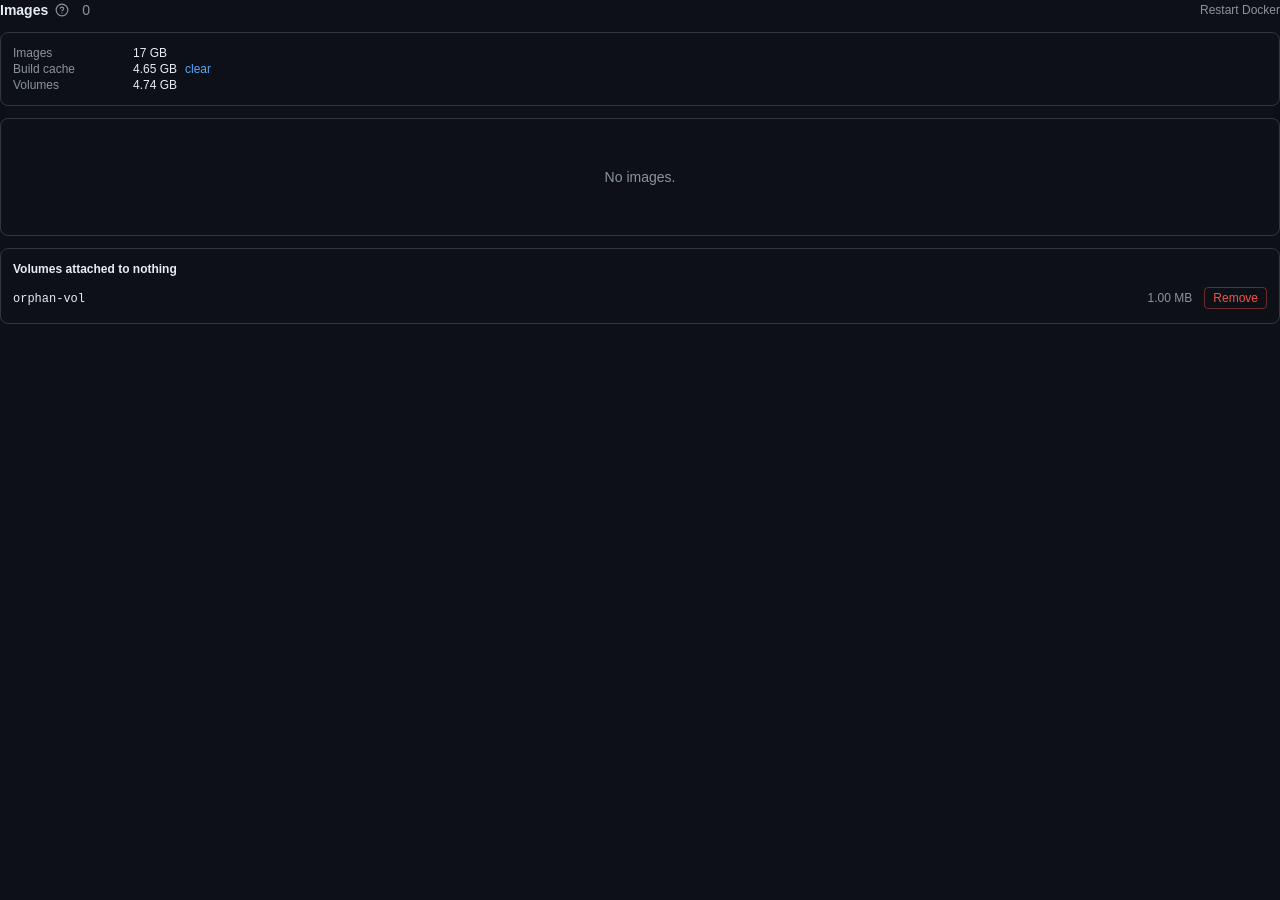
it: removing a dangling volume › removes nothing when the confirmation is cancelled
Click the button "Remove" at x=1236, y=298, box [1204,287,1267,309]
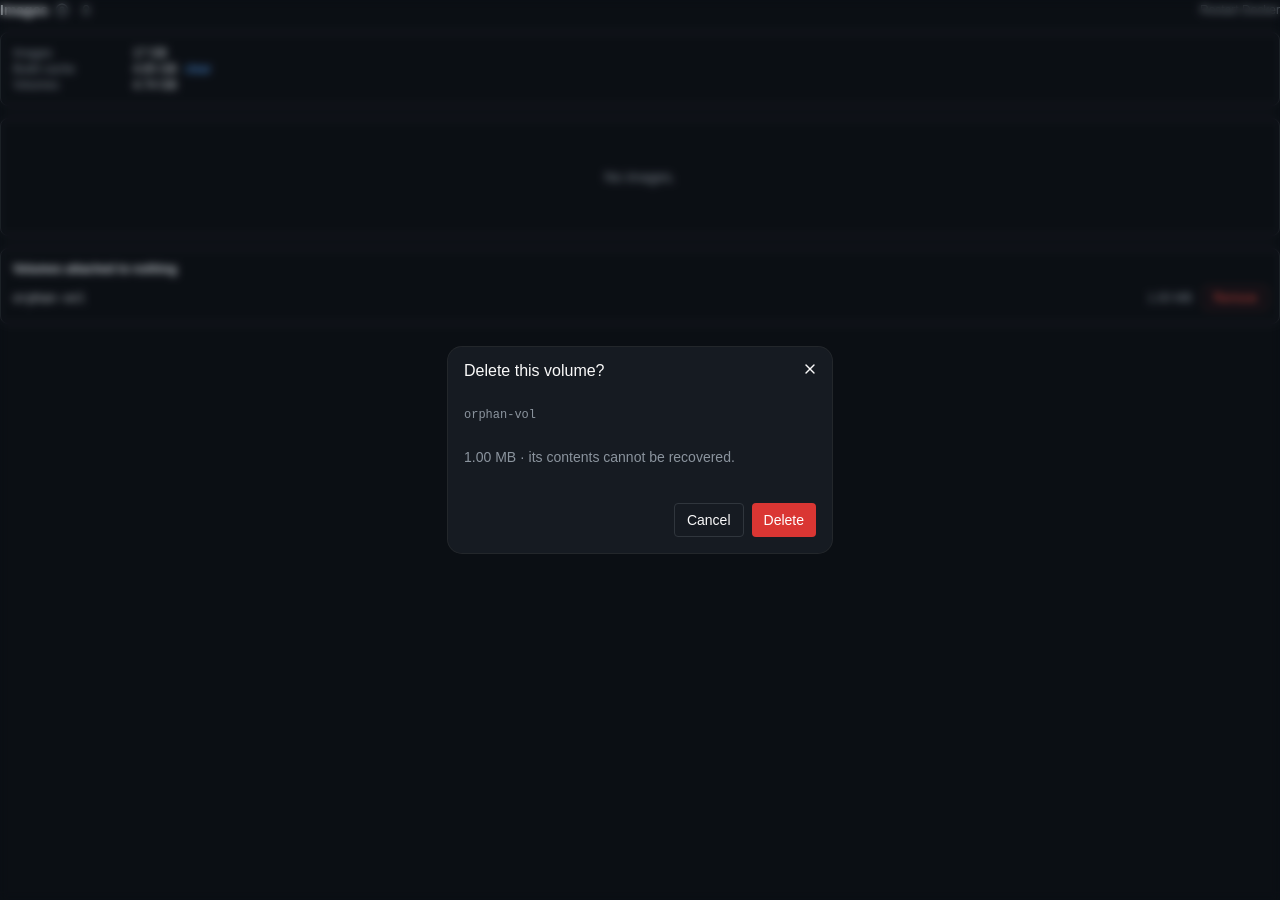
Click the button "Cancel" at x=709, y=520, box [674,503,744,537]
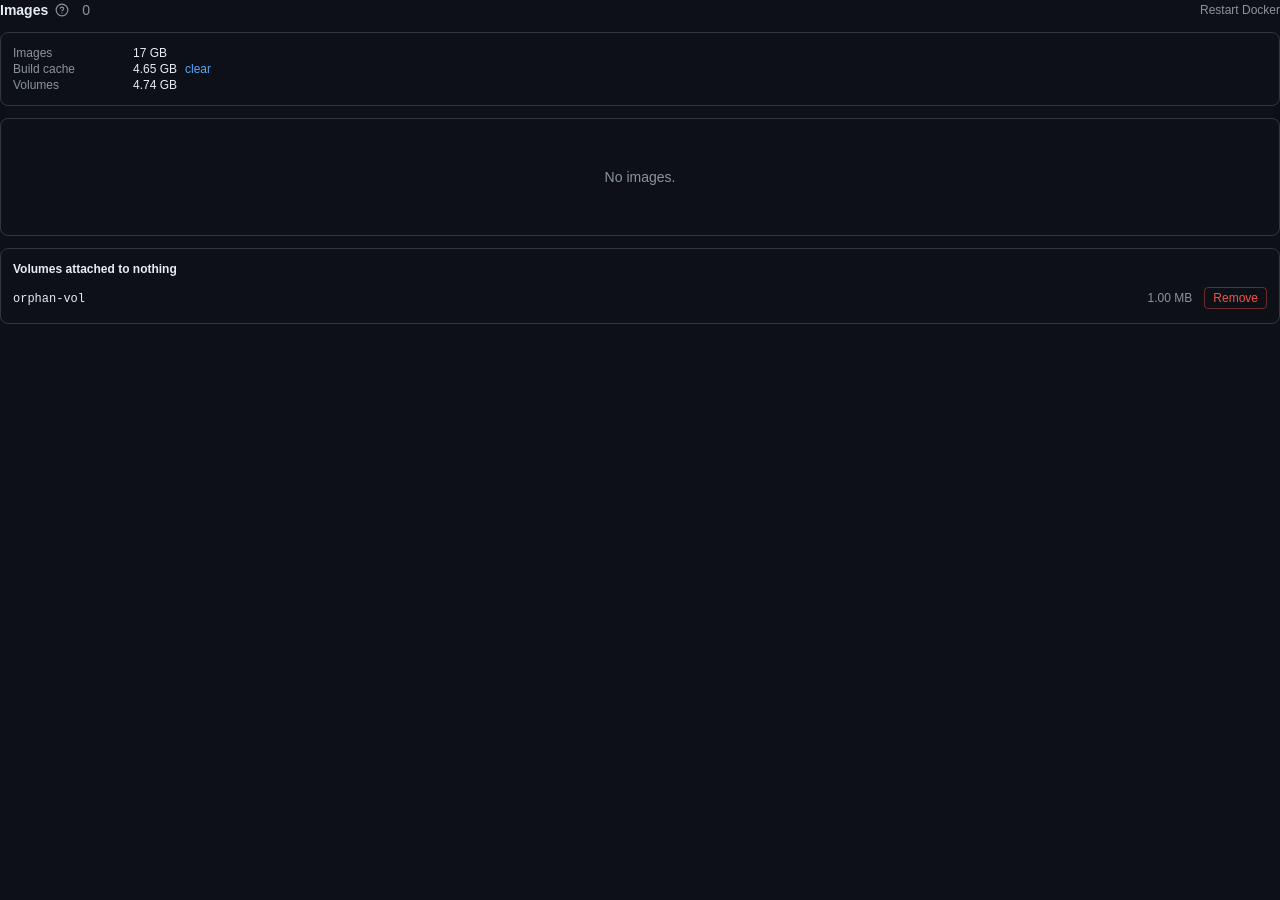
Check: the heading "Delete this volume?" is gone
